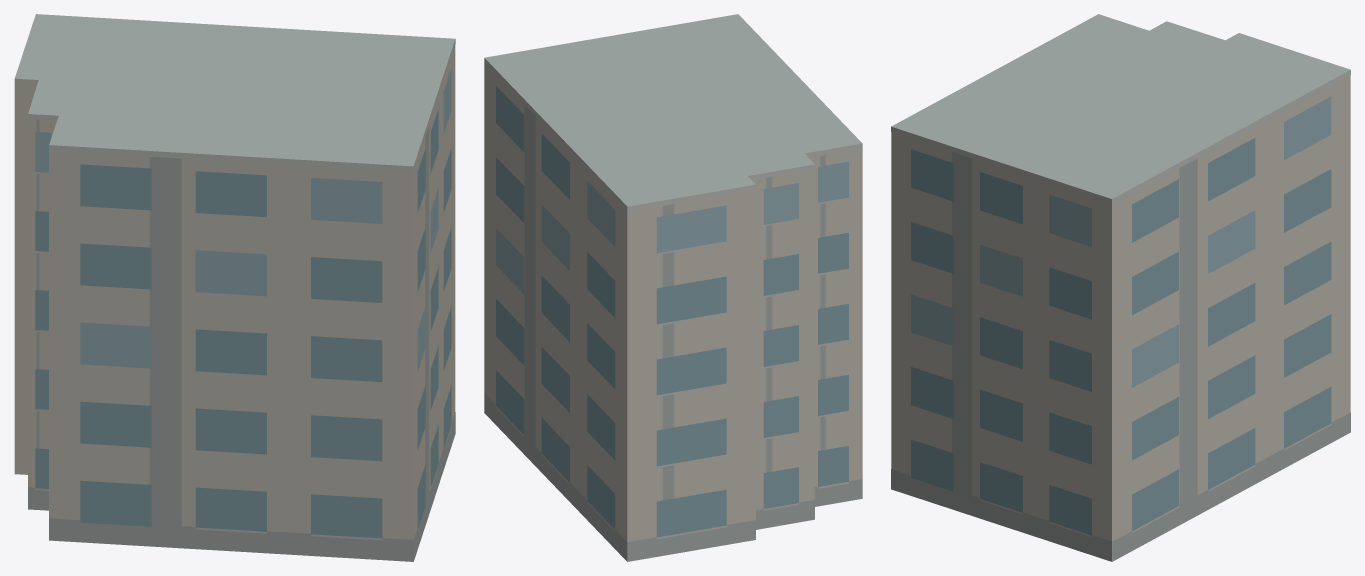
File: survey-upis-32941640.glb
3 views of the same model, side by side, from view 1: azimuth 30°, elevation 25°; view 2: azimuth 150°, elevation 25°; view 3: azimuth 270°, elevation 25° (orthographic). The views are drawn at different scales.
Parts seen in each view (by area): view 1: survey-upis-32941640.tmp; view 2: survey-upis-32941640.tmp; view 3: survey-upis-32941640.tmp.
Part boxes in pixels (bbox=[...]): survey-upis-32941640.tmp: bbox=[14, 14, 455, 561]; survey-upis-32941640.tmp: bbox=[484, 14, 862, 561]; survey-upis-32941640.tmp: bbox=[891, 14, 1350, 561].
Bounding box in the file's own units: 17.85 × 16.3 × 18.73.
